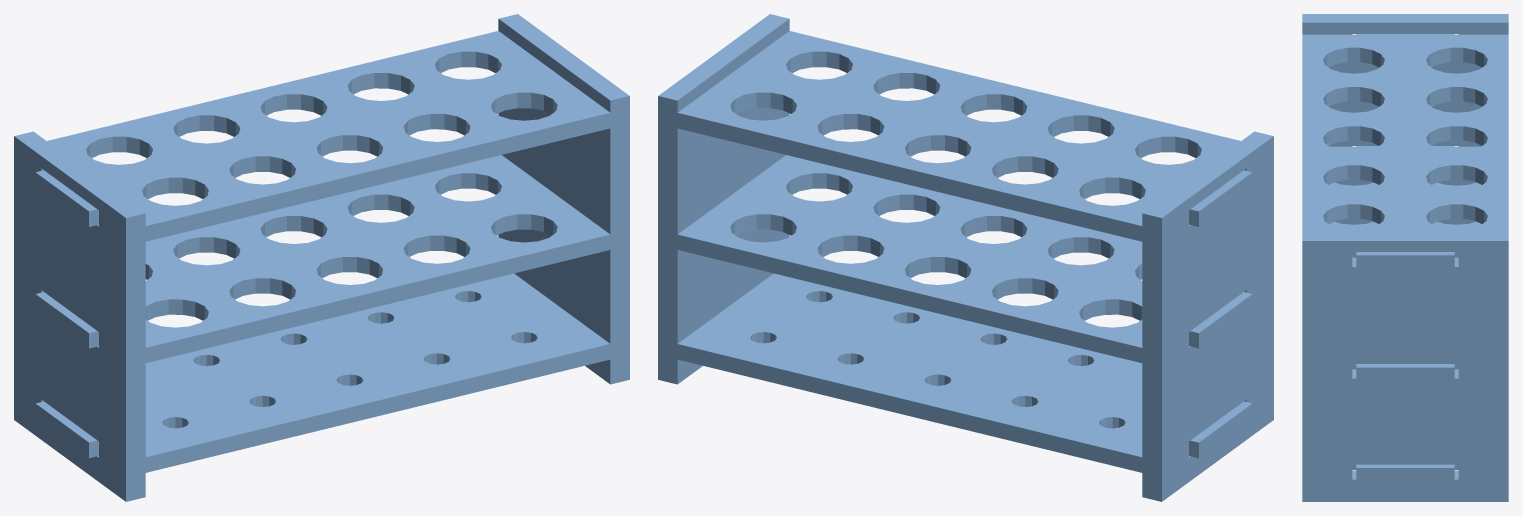
File: TestTubeRack.fbx
3 renders of one model, left to right at view 1: azimuth 30°, elevation 25°; view 2: azimuth 150°, elevation 25°; view 3: azimuth 270°, elevation 25°, orthographic. The views are drawn at different scales.
Visible parts, largest first — view 1: TestTubeRack; view 2: TestTubeRack; view 3: TestTubeRack.
Part boxes in pixels (x1,y1,x2,y2): TestTubeRack: (14, 14, 629, 501); TestTubeRack: (658, 14, 1273, 501); TestTubeRack: (1302, 14, 1508, 501).
Size of the model in its own units: 0.134 by 0.0702 by 0.05.
